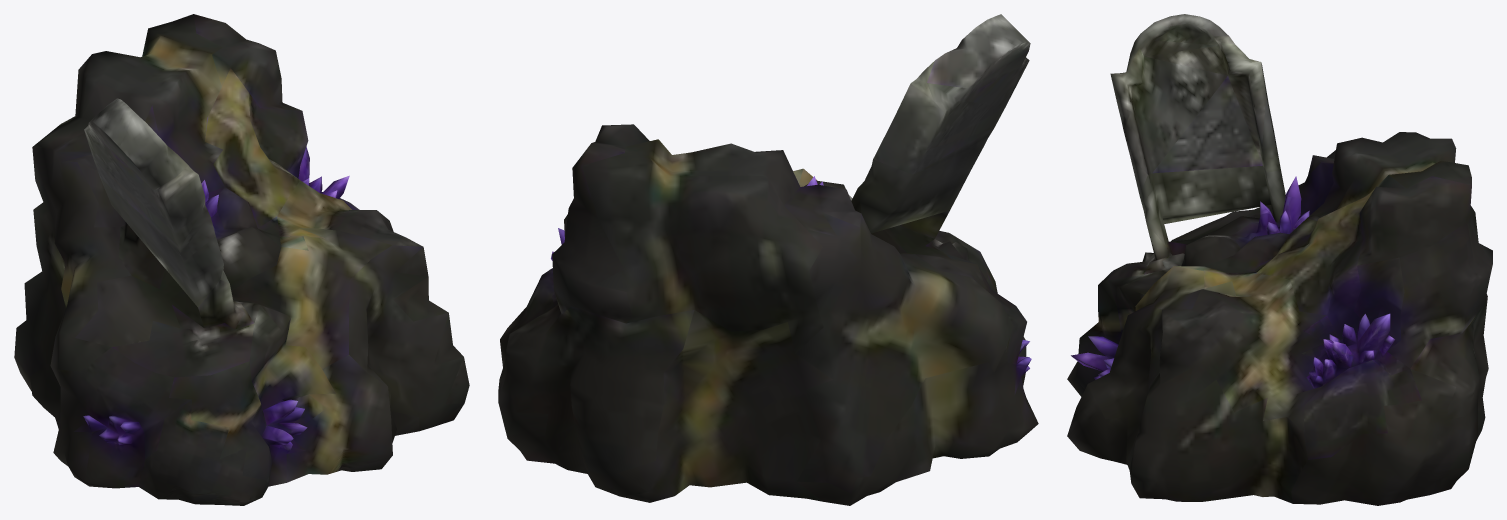
Rendered from prop_node_ore_seam_gold.glb.
3 renders of one model, left to right at view 1: azimuth 30°, elevation 25°; view 2: azimuth 150°, elevation 25°; view 3: azimuth 270°, elevation 25°, orthographic. The views are drawn at different scales.
Visible parts, largest first — view 1: tripo_node_0bf5bb75-011f-4941-bb16-5c0978e515fd; view 2: tripo_node_0bf5bb75-011f-4941-bb16-5c0978e515fd; view 3: tripo_node_0bf5bb75-011f-4941-bb16-5c0978e515fd.
Boxes of the visible parts, x1,y1,x2,y2 form: tripo_node_0bf5bb75-011f-4941-bb16-5c0978e515fd: [14, 14, 469, 505]; tripo_node_0bf5bb75-011f-4941-bb16-5c0978e515fd: [498, 14, 1038, 505]; tripo_node_0bf5bb75-011f-4941-bb16-5c0978e515fd: [1067, 14, 1492, 505].
Size of the model in its own units: 0.9786 by 0.8964 by 0.998.
1 material, 1 textured.
